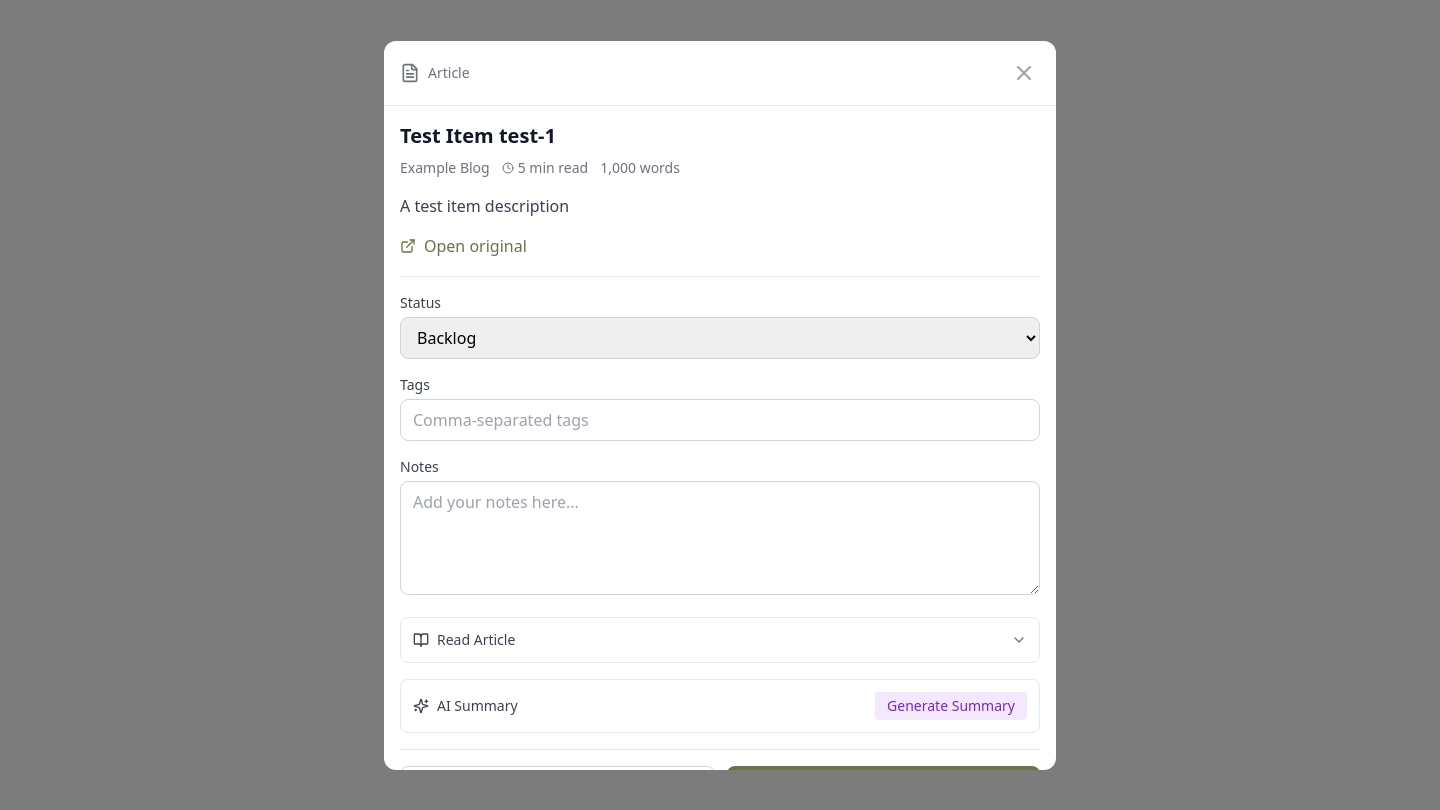
it: InterestDetail › article content section › displays article content when loaded
This screenshot has width=1440, height=810.
Click the button "Read Article": [476, 639] box left=401, top=618, right=1039, bottom=662
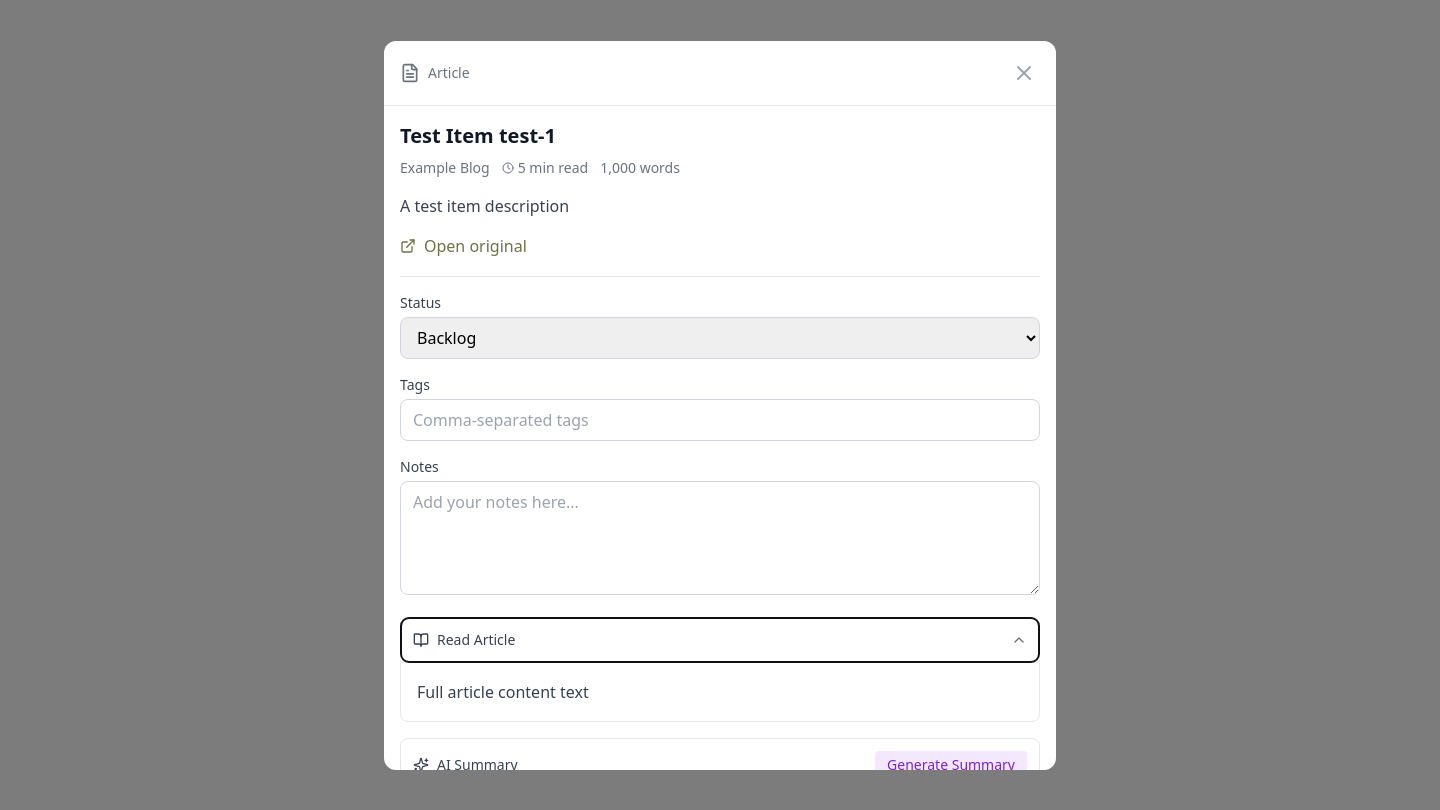
Expected: the text "Full article content text" is shown, left=417, top=680, right=589, bottom=702
